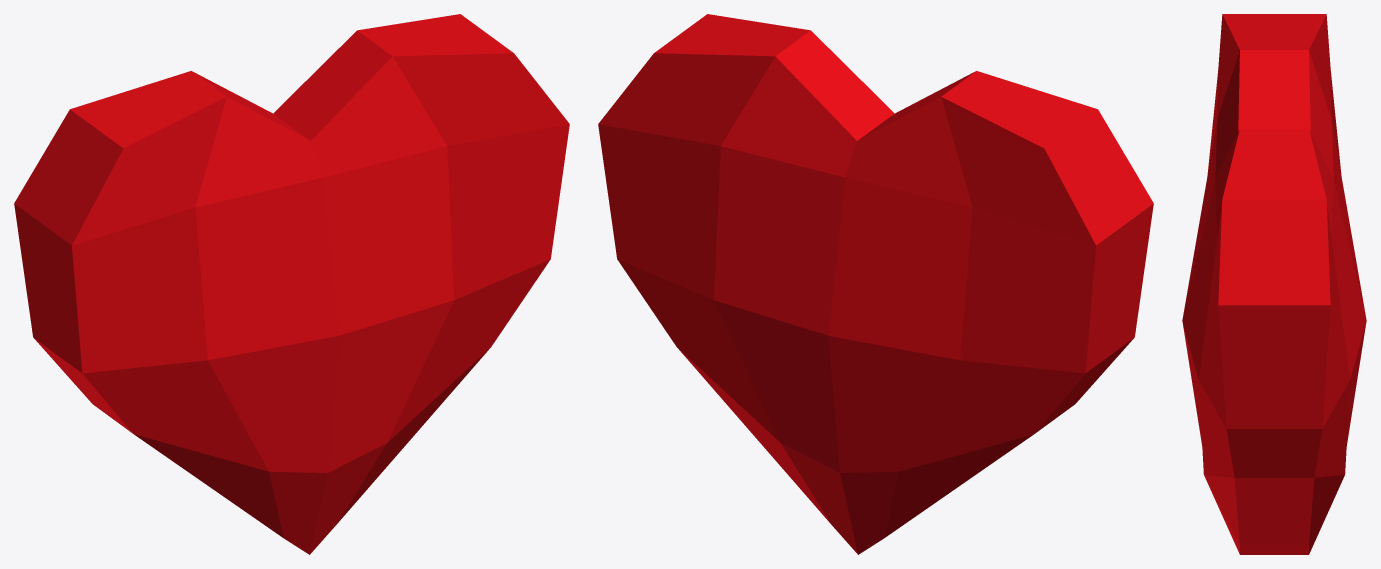
The model's file is Heart.fbx.
3 renders of one model, left to right at view 1: azimuth 30°, elevation 25°; view 2: azimuth 150°, elevation 25°; view 3: azimuth 270°, elevation 25°, orthographic. The views are drawn at different scales.
Parts seen in each view (by area): view 1: Heart; view 2: Heart; view 3: Heart.
Part boxes in pixels (x1,y1,x2,y2): Heart: (14, 14, 569, 554); Heart: (598, 14, 1153, 554); Heart: (1182, 14, 1366, 554).
Size of the model in its own units: 443 by 406 by 146.
